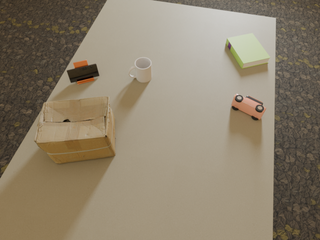book: (226, 33, 270, 68)
box: (34, 96, 116, 163)
cup: (128, 57, 152, 82)
phone: (67, 64, 99, 83)
toy_car: (231, 94, 266, 120)
